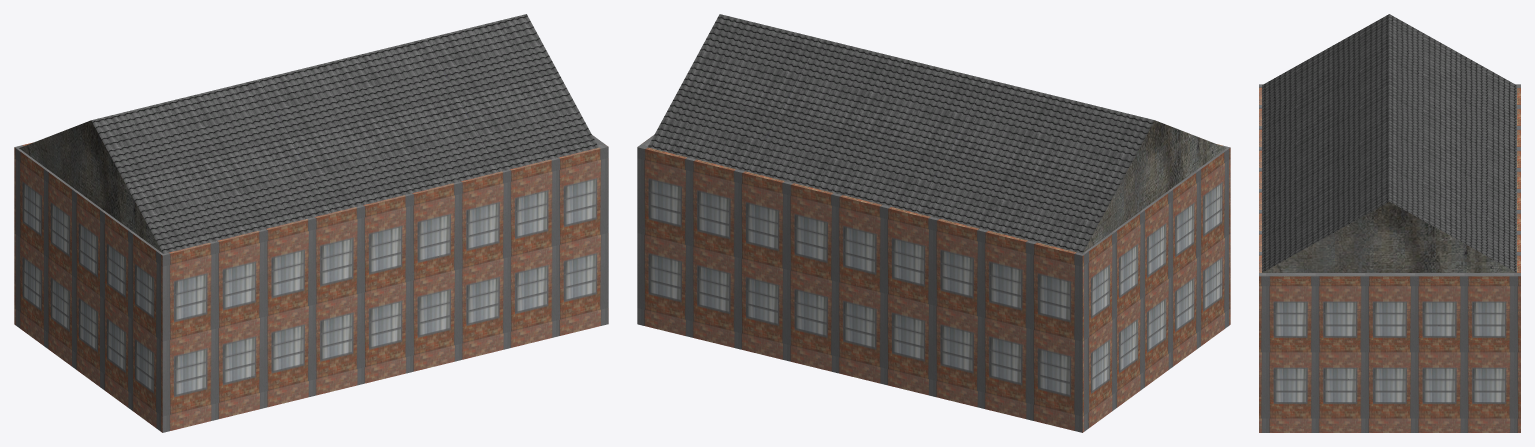
Rendered from LOD01_Building_2Stores_StockHouse.obj.
3 views of the same model, side by side, from view 1: azimuth 30°, elevation 25°; view 2: azimuth 150°, elevation 25°; view 3: azimuth 270°, elevation 25° (orthographic). The views are drawn at different scales.
Parts seen in each view (by area): view 1: LOD01_Building_2Stores_StockHouse; view 2: LOD01_Building_2Stores_StockHouse; view 3: LOD01_Building_2Stores_StockHouse.
Part boxes in pixels (x1,y1,x2,y2): LOD01_Building_2Stores_StockHouse: [14, 14, 608, 432]; LOD01_Building_2Stores_StockHouse: [637, 14, 1230, 432]; LOD01_Building_2Stores_StockHouse: [1259, 14, 1520, 432].
Bounding box in the file's own units: 9.16 × 5.06 × 5.27.
